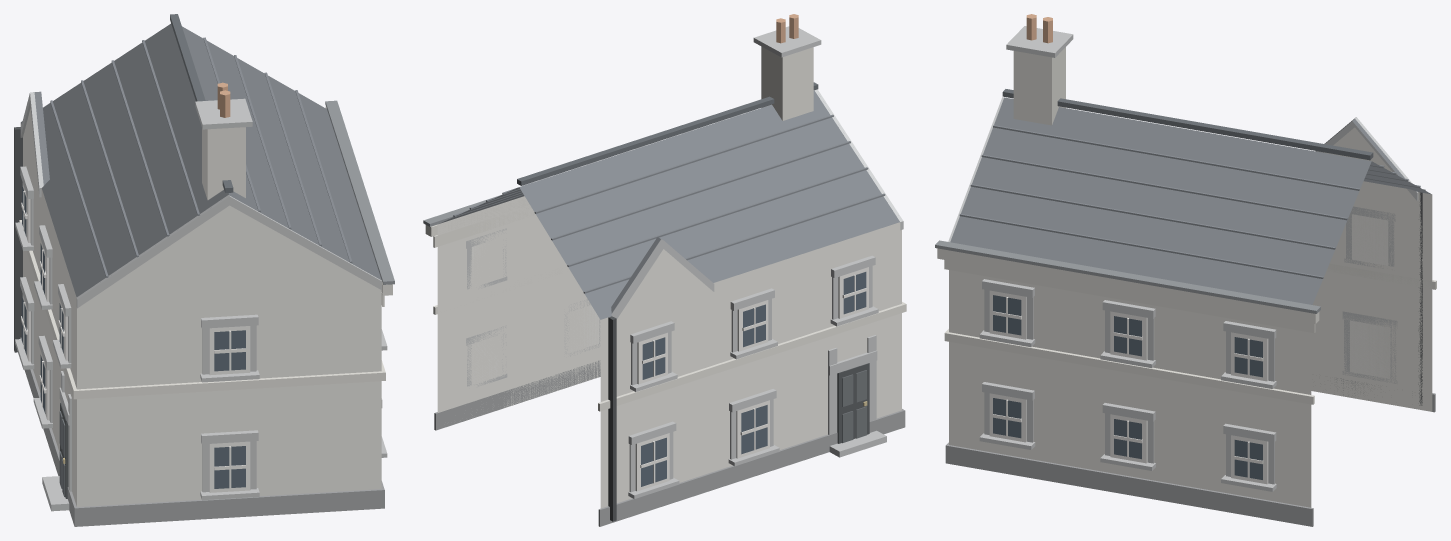
3 renders of one model, left to right at view 1: azimuth 30°, elevation 25°; view 2: azimuth 150°, elevation 25°; view 3: azimuth 270°, elevation 25°, orthographic. The views are drawn at different scales.
Parts seen in each view (by area): view 1: harl, slate, stone_band, plinth, slate_lt, string, frame, chim_render, lead, pipe, window_glass_006, window_glass_007 (+2 smaller); view 2: harl, slate, stone_band, plinth, frame, string, slate_lt, chim_render, slate_dk, pipe, door_dark_p, door_dark (+5 smaller); view 3: harl, slate, stone_band, string, frame, plinth, slate_lt, lead, chim_render, slate_dk, window_glass_013, window_glass_012 (+5 smaller).
Boxes of the visible parts, box(x1,y1,x2,y2) form: harl: box(20, 108, 381, 506); slate: box(21, 24, 381, 296); stone_band: box(15, 92, 387, 511); plinth: box(20, 337, 384, 526); slate_lt: box(50, 37, 352, 277); string: box(19, 106, 392, 399); frame: box(21, 183, 250, 492); chim_render: box(202, 127, 245, 199); lead: box(325, 100, 394, 284); pipe: box(14, 127, 22, 352); window_glass_006: box(214, 446, 245, 488); window_glass_007: box(214, 330, 245, 371); harl: box(437, 196, 901, 508); slate: box(439, 90, 899, 319); stone_band: box(466, 26, 903, 499); plinth: box(434, 360, 905, 526); frame: box(472, 240, 868, 491); string: box(425, 199, 906, 411); slate_lt: box(453, 114, 885, 293); chim_render: box(761, 46, 813, 120); slate_dk: box(517, 82, 818, 185); pipe: box(608, 316, 616, 521); door_dark_p: box(842, 370, 866, 443); door_dark: box(837, 363, 869, 443); harl: box(949, 127, 1432, 507); slate: box(950, 97, 1431, 304); stone_band: box(948, 26, 1418, 491); string: box(937, 248, 1436, 404); frame: box(989, 214, 1390, 484); plinth: box(945, 378, 1435, 526); slate_lt: box(959, 125, 1420, 278); lead: box(935, 240, 1320, 313); chim_render: box(1013, 47, 1065, 125); slate_dk: box(1002, 89, 1373, 160); window_glass_013: box(1234, 337, 1262, 377); window_glass_012: box(1234, 440, 1262, 479).
Size of the model in its own units: 10.11 by 9.95 by 11.5.
